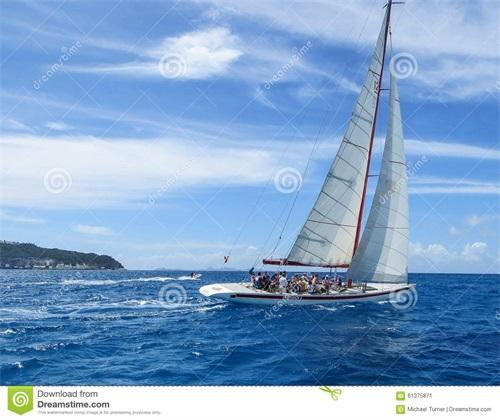Ship: (199, 1, 420, 307)
